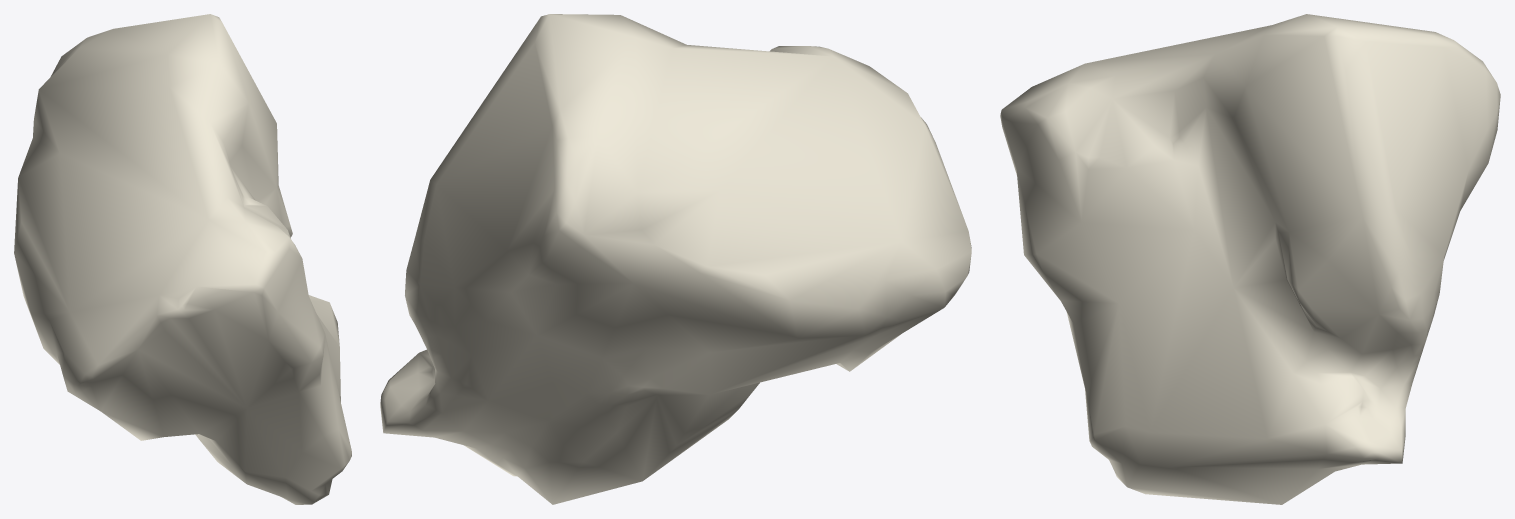
3 renders of one model, left to right at view 1: azimuth 30°, elevation 25°; view 2: azimuth 150°, elevation 25°; view 3: azimuth 270°, elevation 25°, orthographic. The views are drawn at different scales.
Parts seen in each view (by area): view 1: ZA_25ba4e2ea96fc74f; view 2: ZA_25ba4e2ea96fc74f; view 3: ZA_25ba4e2ea96fc74f.
Boxes of the visible parts, <box> form: ZA_25ba4e2ea96fc74f: <box>14,14,351,504</box>; ZA_25ba4e2ea96fc74f: <box>380,14,971,504</box>; ZA_25ba4e2ea96fc74f: <box>1000,14,1500,504</box>.
Bounding box in the file's own units: 0.0242 × 0.0269 × 0.0265.
